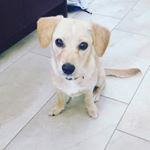puppy: (34, 9, 119, 125)
